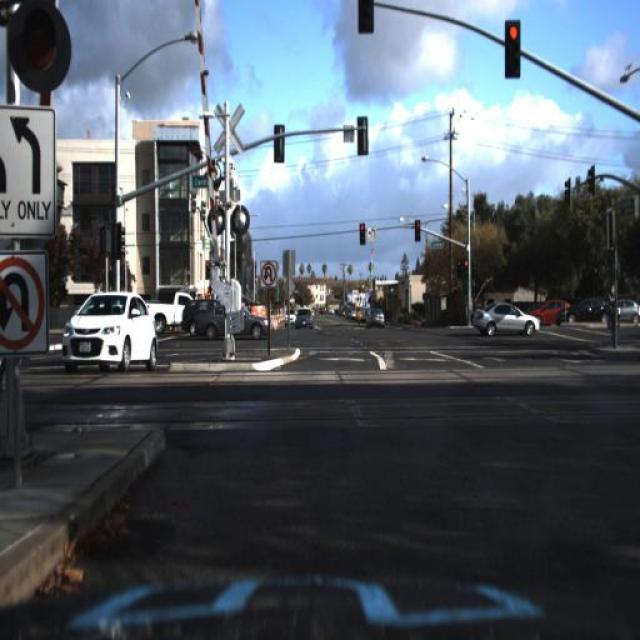car: (57, 290, 156, 379), (195, 296, 273, 345), (140, 288, 196, 338), (470, 297, 542, 335), (529, 296, 575, 330), (361, 305, 390, 330)
trafficLight-Green: (12, 2, 69, 88), (356, 1, 376, 34)
trafficLight-RedLeft: (503, 18, 522, 78), (412, 213, 423, 246), (357, 218, 367, 248), (462, 252, 471, 284)
